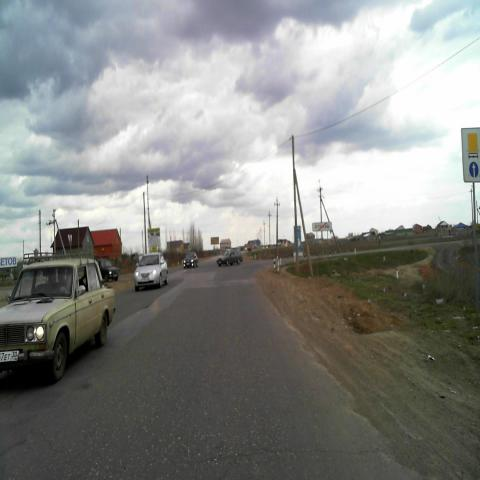4_8_2: (462, 126, 480, 182)
